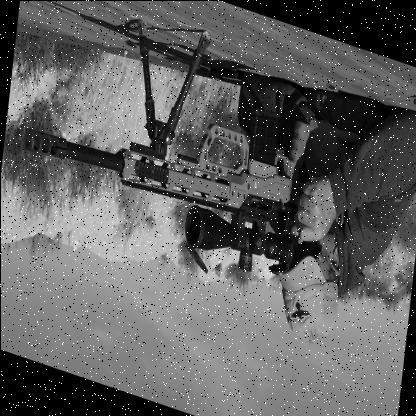rifle: (15, 28, 310, 272)
